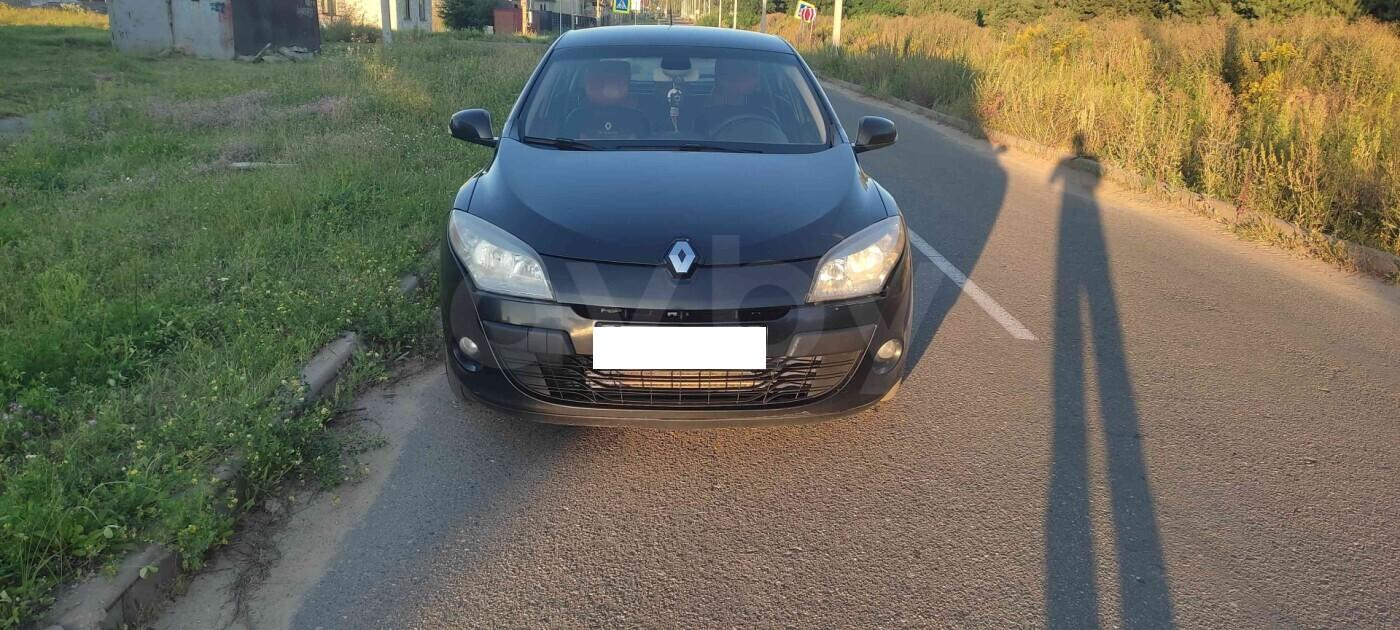Megane_2008-2014: (437, 20, 926, 422)
